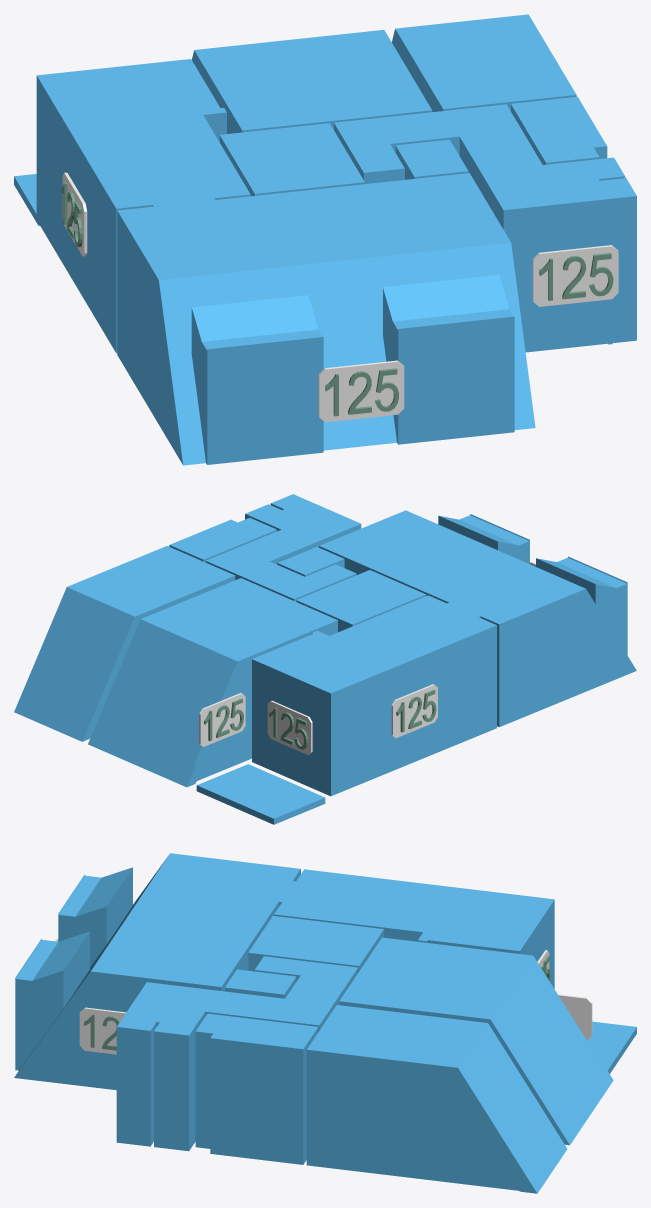
3 renders of one model, top to bottom at view 1: azimuth 30°, elevation 25°; view 2: azimuth 150°, elevation 25°; view 3: azimuth 270°, elevation 25°, orthographic. The views are drawn at different scales.
Visible parts, largest first — view 1: g_0, g_1, g_5, g_2, g_3, g_4, g_7, g_12, g_24, g_6, g_20, g_8; view 2: g_1, g_0, g_2, g_3, g_5, g_8, g_4, g_7, g_20, g_16, g_32, g_6; view 3: g_3, g_0, g_2, g_5, g_7, g_1, g_4, g_8, g_6, g_28, g_16.
Part boxes in pixels (x1,y1,x2,y2): g_0: [117, 173, 535, 465]; g_1: [36, 59, 250, 353]; g_5: [334, 104, 636, 352]; g_2: [192, 30, 432, 133]; g_3: [392, 14, 576, 111]; g_4: [219, 123, 364, 196]; g_7: [511, 96, 607, 164]; g_12: [318, 360, 404, 422]; g_24: [532, 245, 618, 306]; g_6: [395, 139, 468, 179]; g_20: [62, 172, 87, 256]; g_8: [14, 174, 39, 225]; g_1: [252, 595, 496, 796]; g_0: [319, 510, 636, 727]; g_2: [88, 578, 337, 787]; g_3: [14, 546, 235, 741]; g_5: [205, 494, 361, 601]; g_8: [196, 764, 325, 824]; g_4: [296, 570, 426, 632]; g_7: [169, 517, 276, 562]; g_20: [391, 684, 437, 737]; g_16: [199, 693, 245, 746]; g_32: [267, 700, 312, 754]; g_6: [277, 547, 344, 576]; g_3: [306, 1005, 567, 1193]; g_0: [14, 853, 300, 1090]; g_2: [339, 937, 613, 1145]; g_5: [116, 956, 358, 1151]; g_7: [195, 1013, 318, 1164]; g_1: [274, 869, 554, 988]; g_4: [248, 916, 383, 972]; g_8: [587, 1021, 636, 1073]; g_6: [225, 969, 296, 998]; g_28: [79, 1007, 126, 1054]; g_16: [558, 994, 592, 1040].
Bounding box in the file's own units: 11.01 × 2.71 × 12.42.
